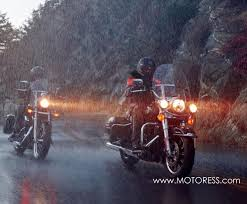motorcycle: (104, 63, 200, 179), (1, 76, 69, 160)
